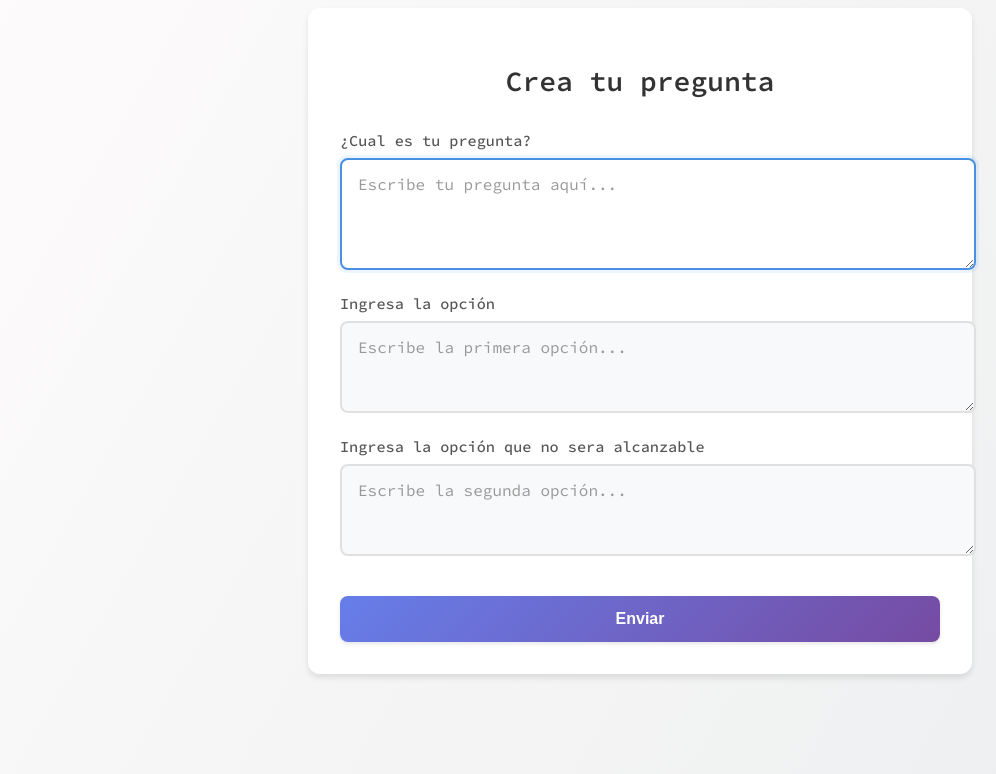
Test case: FormQuestion › should show error messages when submitting empty form
The width and height of the screenshot is (996, 774).
Click the submit button.
click(640, 619)  # box [340, 596, 940, 642]
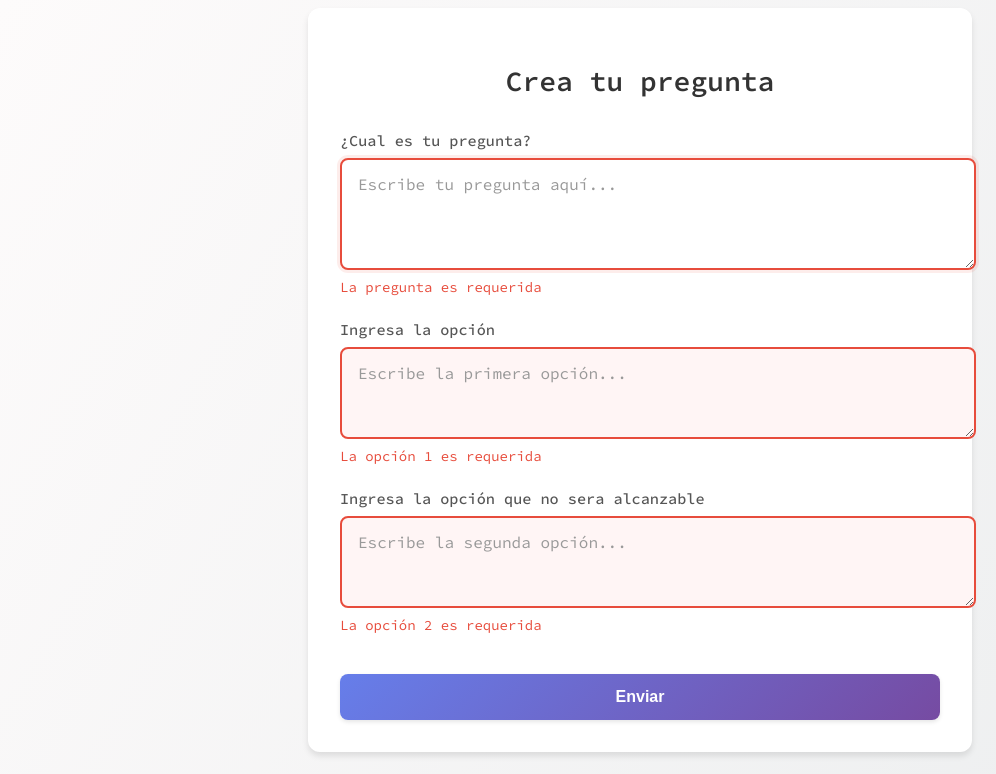
Now the text "La pregunta es requerida" is shown, box [340, 278, 542, 296]
Now the text "La opción 1 es requerida" is shown, box [340, 447, 542, 465]
Now the text "La opción 2 es requerida" is shown, box [340, 616, 542, 634]
